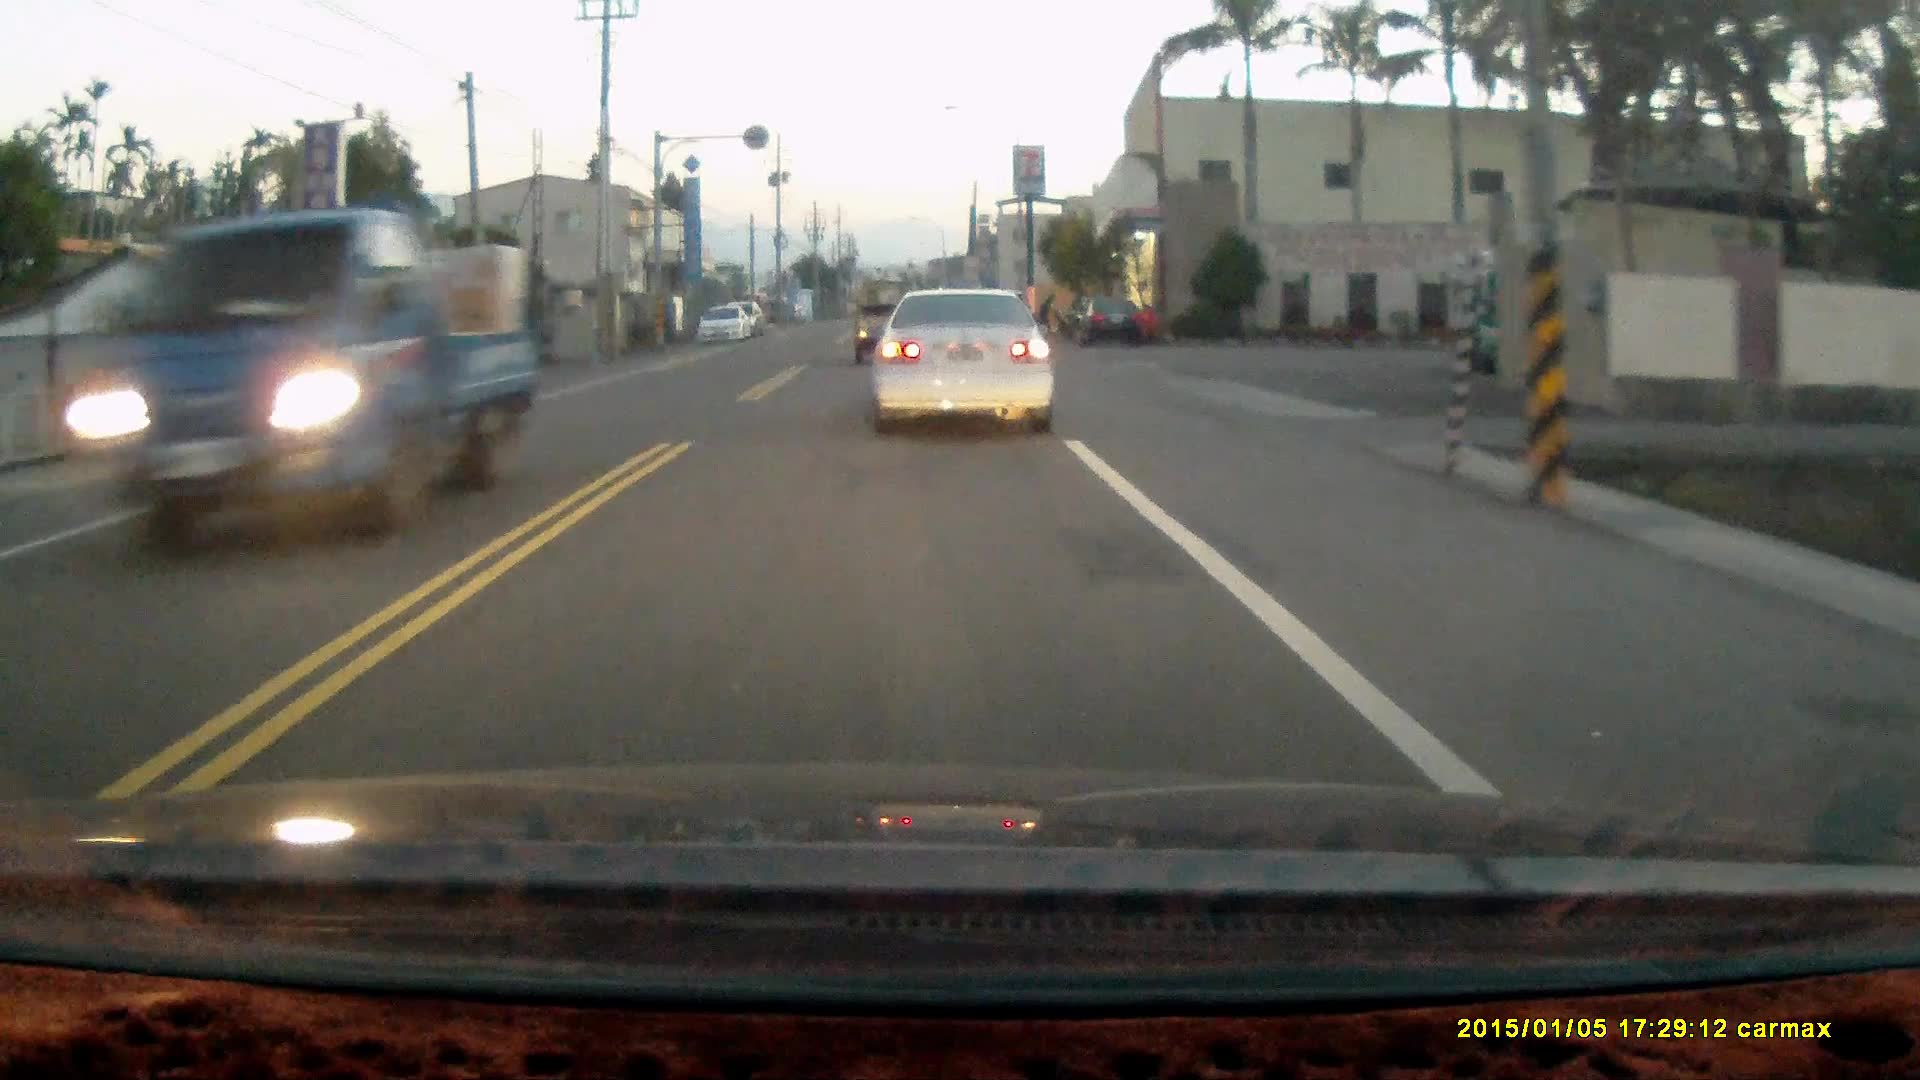rider: (1028, 290, 1071, 340)
vehicle: (92, 204, 540, 560), (878, 282, 1061, 434), (854, 275, 928, 363), (1074, 285, 1143, 341), (702, 307, 750, 347)
